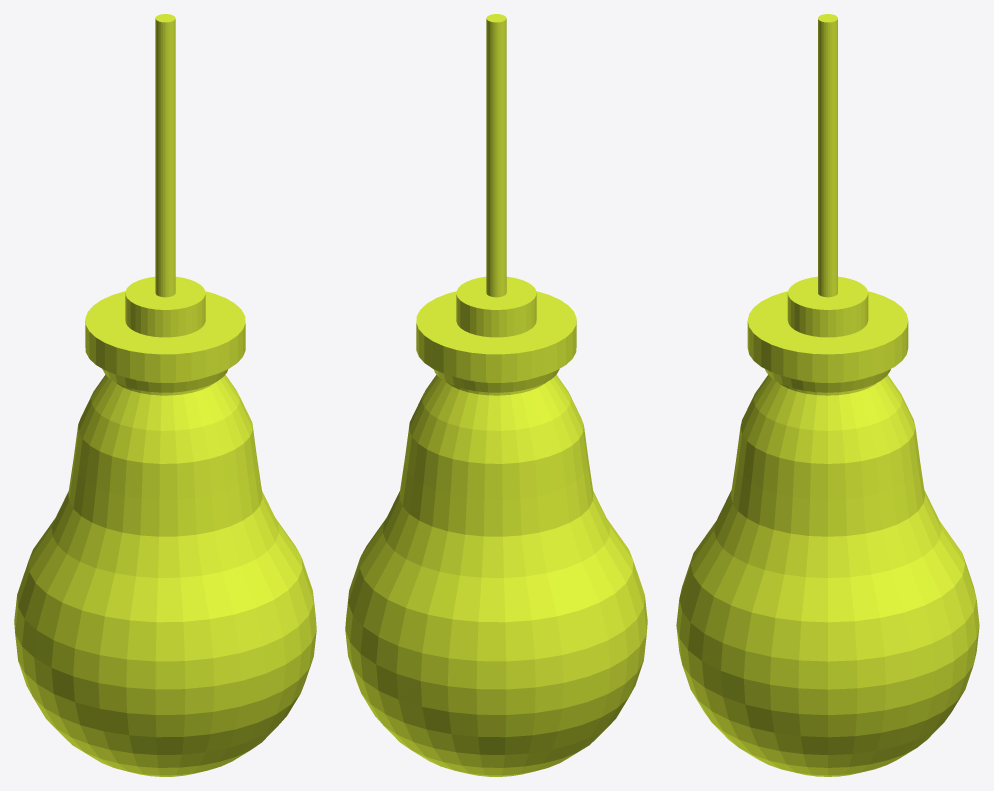
The model's file is Foco.obj.
The picture shows the model from 3 angles, left to right: view 1: azimuth 30°, elevation 25°; view 2: azimuth 150°, elevation 25°; view 3: azimuth 270°, elevation 25°; orthographic projection.
Parts seen in each view (by area): view 1: Esfera_Esfera.002; view 2: Esfera_Esfera.002; view 3: Esfera_Esfera.002.
Part boxes in pixels (x1=…): Esfera_Esfera.002: x1=14, y1=14, x2=316, y2=776; Esfera_Esfera.002: x1=345, y1=14, x2=647, y2=776; Esfera_Esfera.002: x1=676, y1=14, x2=979, y2=776.
Bounding box in the file's own units: 0.5 × 1.36 × 0.5.
